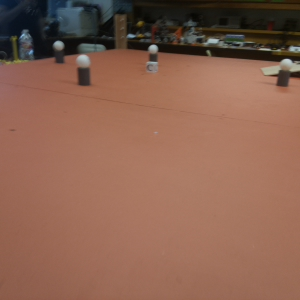obstacle: (76, 55, 92, 86), (114, 14, 126, 49), (277, 60, 291, 88), (146, 46, 157, 62), (54, 40, 62, 59)
